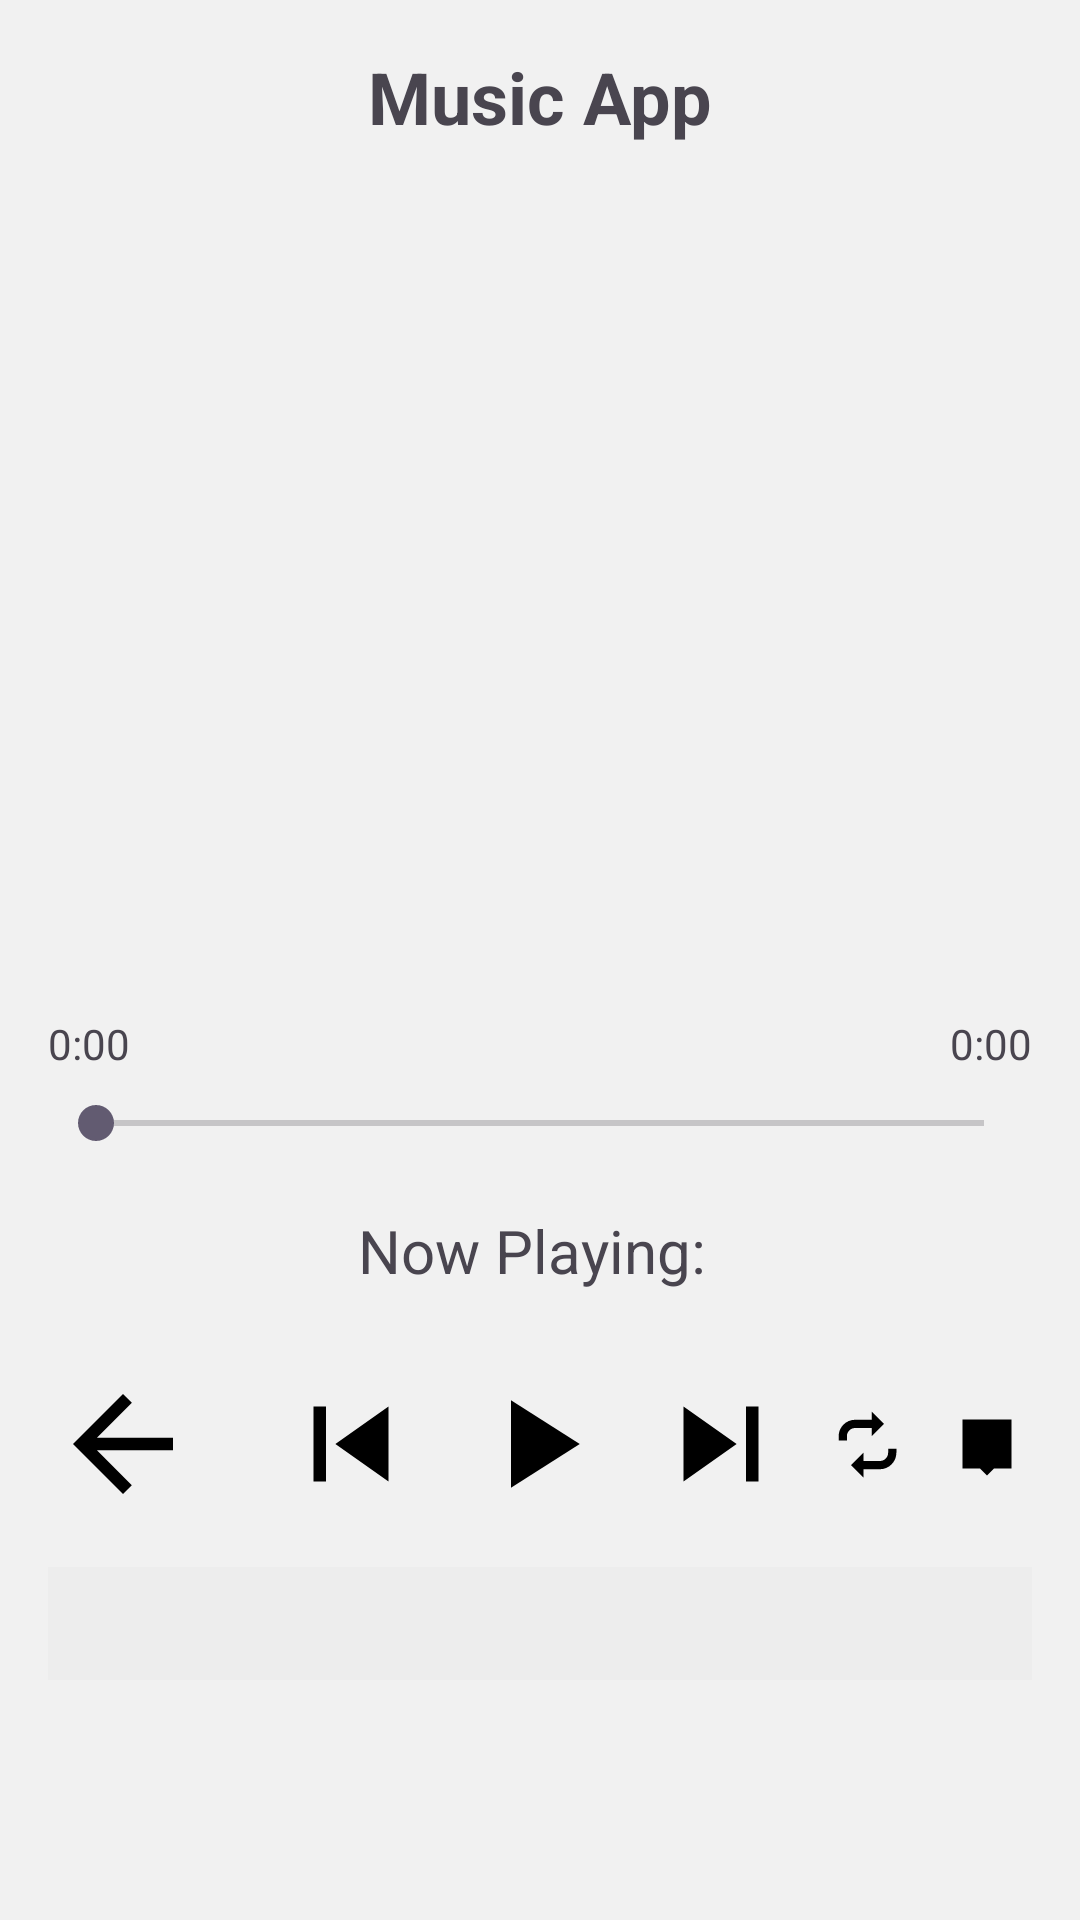

Named icons in this screenshot (1080*1920) and their centers, [x,y]:
Enable Loop: [867,1445]
Go Back: [123,1444]
